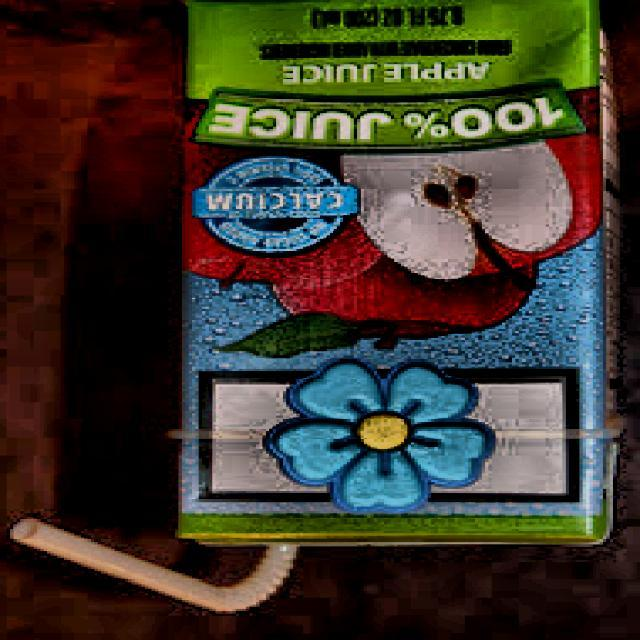cardboard: (172, 0, 626, 549)
